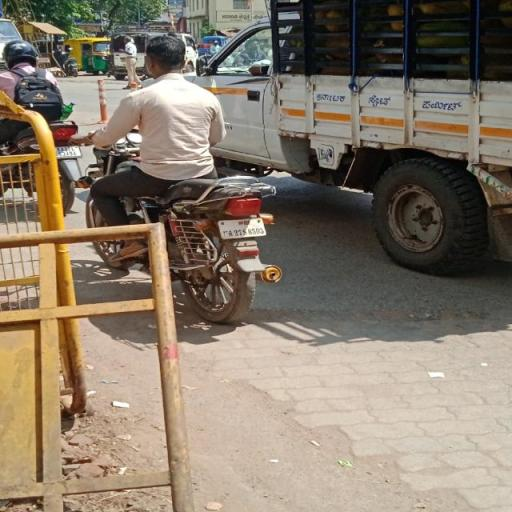bike: (67, 30, 295, 323)
numberplate: (221, 219, 269, 238)
withouthelmet: (147, 37, 187, 75)
